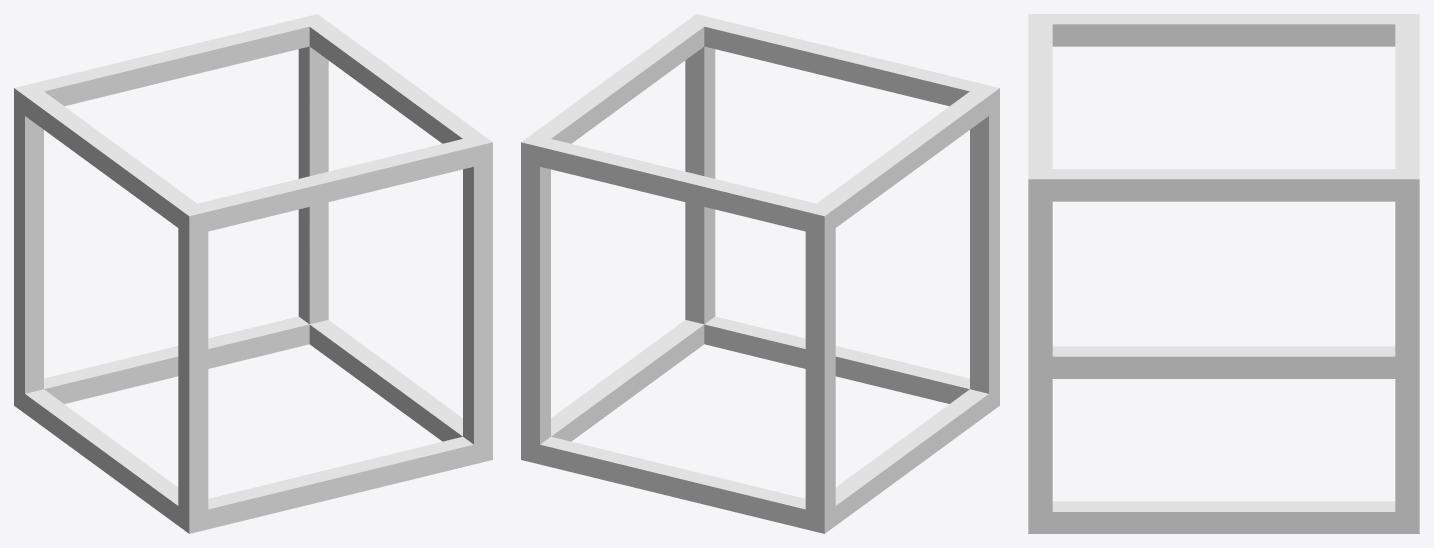
The model's file is split_up_cubeao.fezao.glb.
3 views of the same model, side by side, from view 1: azimuth 30°, elevation 25°; view 2: azimuth 150°, elevation 25°; view 3: azimuth 270°, elevation 25° (orthographic). The views are drawn at different scales.
Visible parts, largest first — view 1: split_up_cubeAO; view 2: split_up_cubeAO; view 3: split_up_cubeAO.
Boxes of the visible parts, x1,y1,x2,y2 form: split_up_cubeAO: (14,14,492,533); split_up_cubeAO: (521,14,999,533); split_up_cubeAO: (1028,14,1419,533).
Bounding box in the file's own units: 1 × 1 × 1.
1 material, 1 textured.
